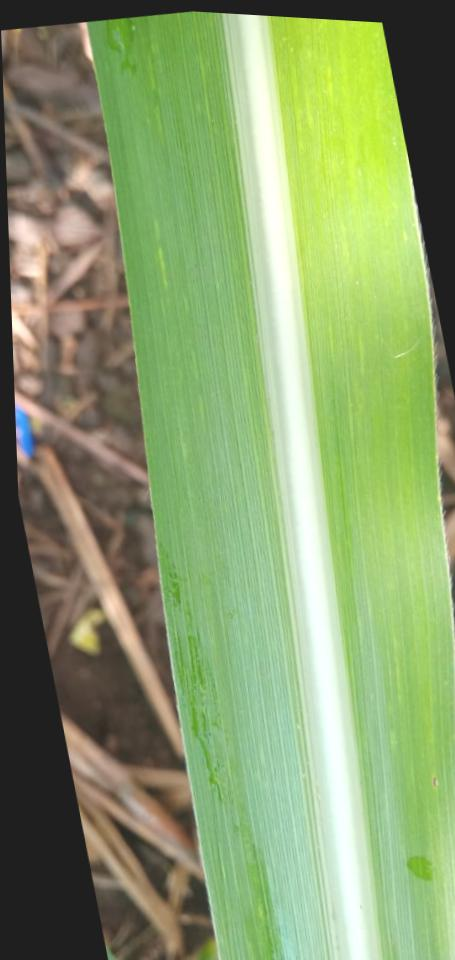Healthy: (88, 12, 455, 960)
